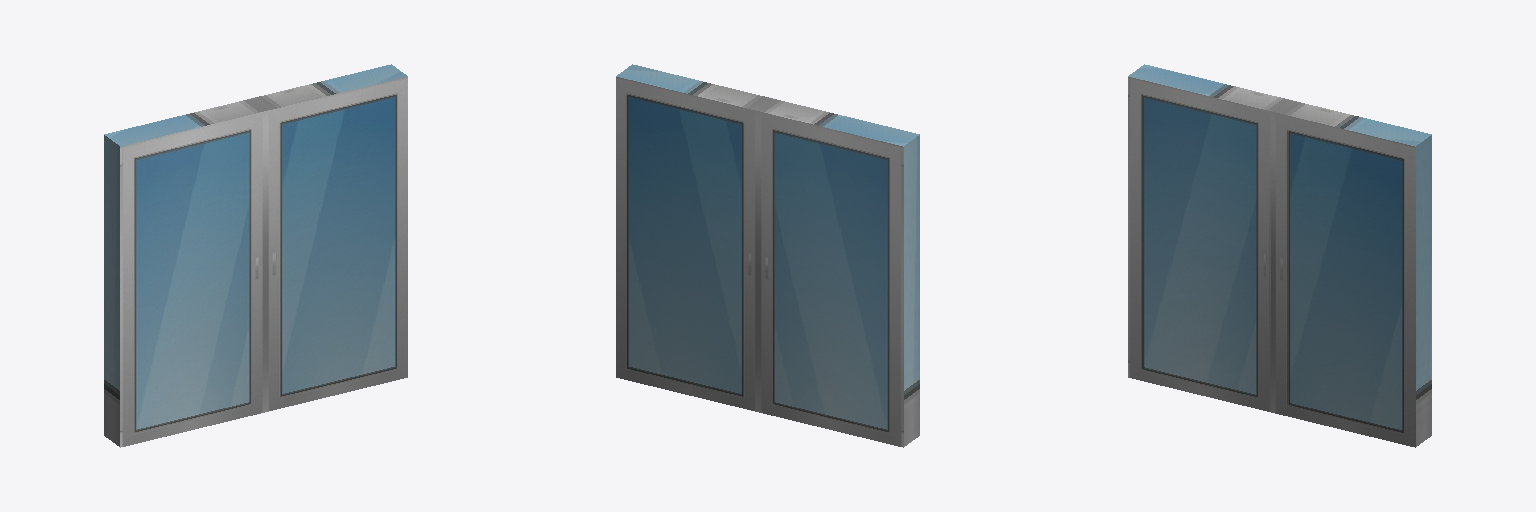
The picture shows the model from 3 angles: view 1: azimuth 30°, elevation 25°; view 2: azimuth 150°, elevation 25°; view 3: azimuth 330°, elevation 25°; orthographic projection.
Parts seen in each view (by area): view 1: pCube10; view 2: pCube10; view 3: pCube10.
Part boxes in pixels (bbox=[...]): pCube10: bbox=[104, 64, 407, 447]; pCube10: bbox=[616, 64, 919, 447]; pCube10: bbox=[1128, 64, 1431, 447].
Size of the model in its own units: 2 by 2 by 0.2.
1 materials, 1 textured.